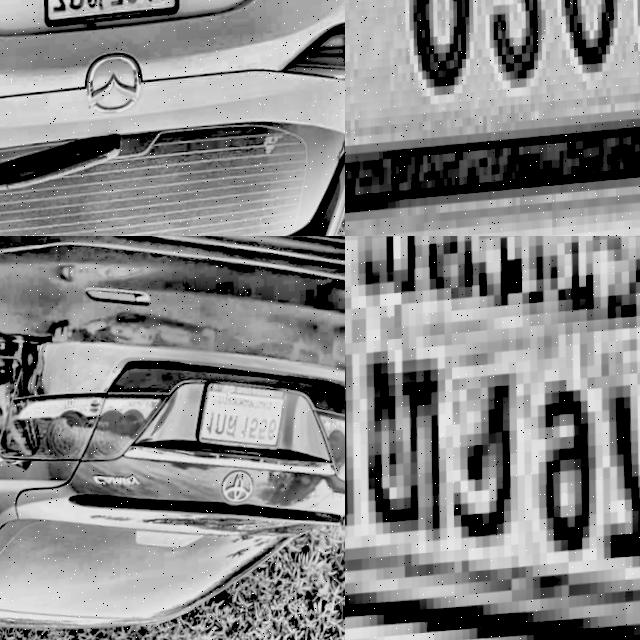license-plate: (345, 236, 640, 640), (345, 0, 640, 236), (192, 376, 294, 464), (40, 0, 183, 36)
